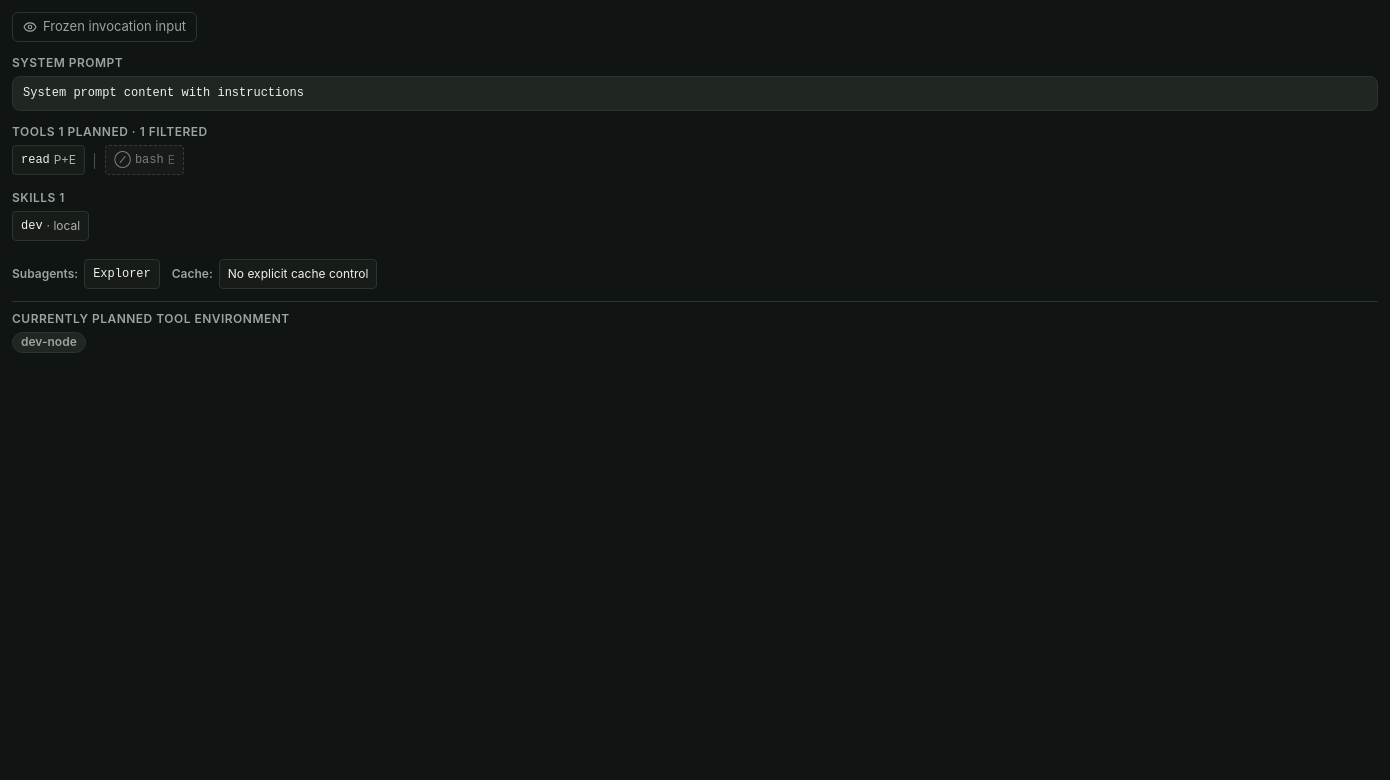
Test: ThreadModelRequestDebug & Inspector › Subagents and Cache inspection › verifies subagent and cache inspector localization in en-US
The width and height of the screenshot is (1390, 780).
Expected: the text "No explicit cache control" is shown, [228,265,368,283]
Expected: the text "NONE" is not shown
点击 Subagent 验证英文
Click the button with aria-label "Subagent Explorer" at x=122, y=274, box [84,259,160,289]
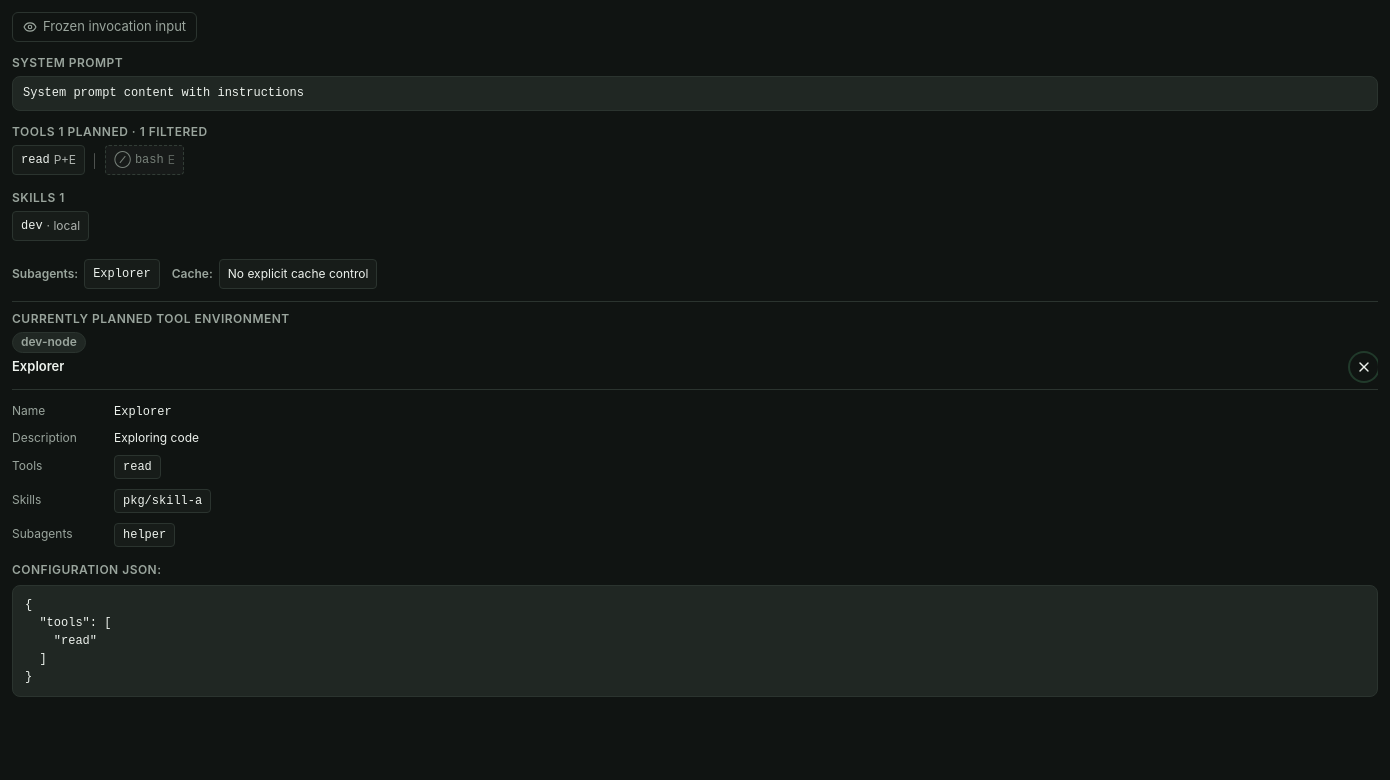
Expected: the text "Name" is shown, [12,403,45,418]
Expected: the text "Description" is shown, [12,430,77,445]
Expected: the text "Exploring code" is shown, [114,430,199,445]
Press Escape
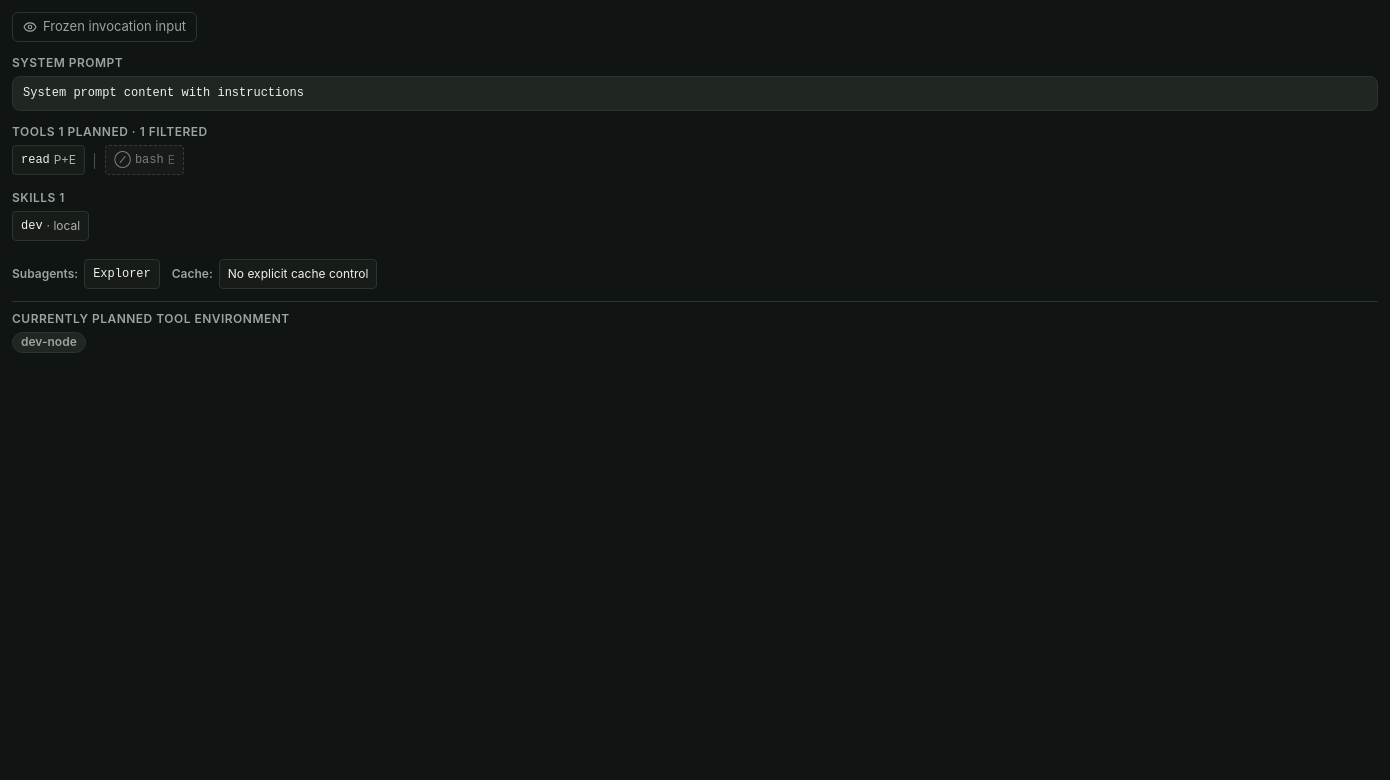
点击 Cache 验证英文
Click the button with aria-label "Cache No explicit cache control" at x=298, y=274, box [219,259,377,289]
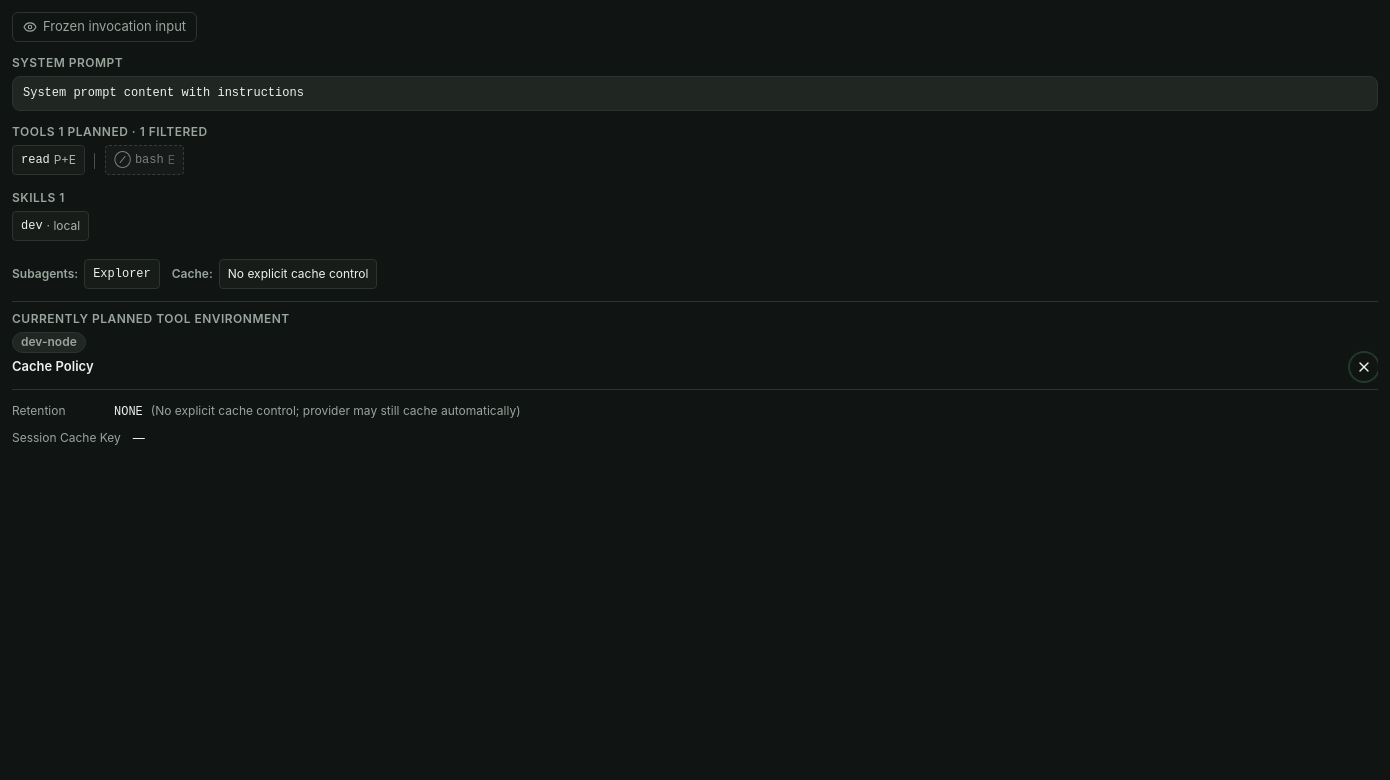
Expected: the heading "Cache Policy" is shown, [12,357,94,376]
Expected: the text "Retention" is shown, [12,403,66,418]
Expected: the text "NONE" is shown, [114,405,143,419]
